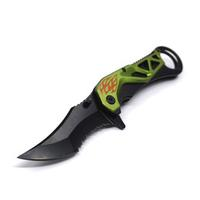knife: (13, 44, 184, 167)
